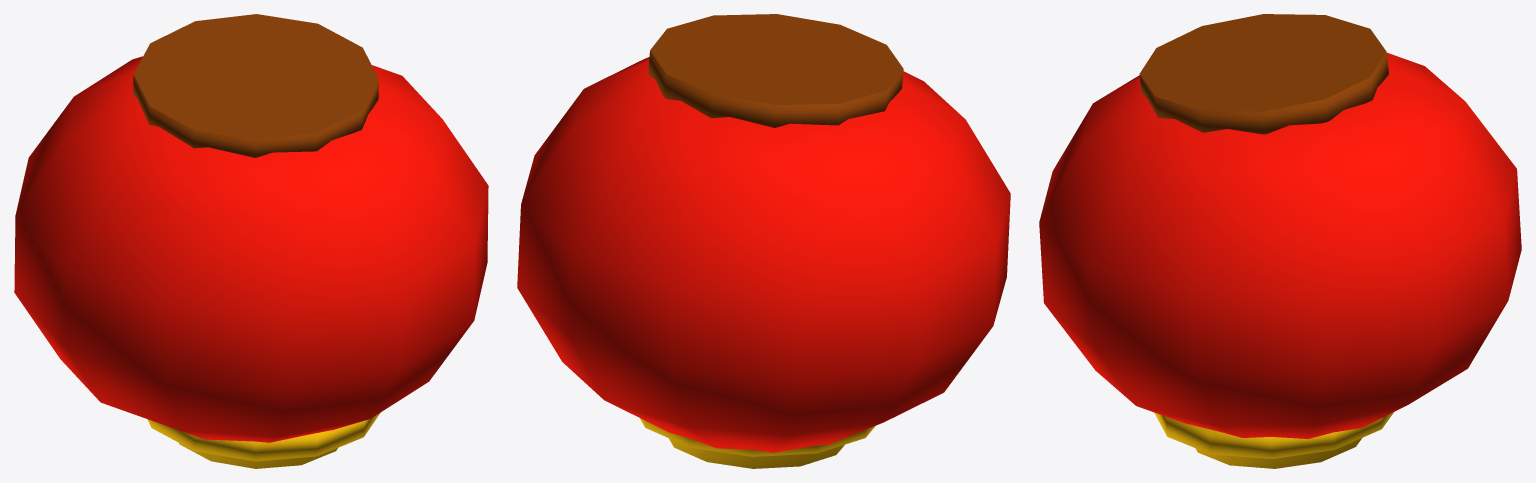
File: little-light.glb
3 views of the same model, side by side, from view 1: azimuth 30°, elevation 25°; view 2: azimuth 150°, elevation 25°; view 3: azimuth 270°, elevation 25° (orthographic). The views are drawn at different scales.
Parts seen in each view (by area): view 1: Cylinder.002; view 2: Cylinder.002; view 3: Cylinder.002.
Part boxes in pixels (<box>): Cylinder.002: <box>14,14,488,468</box>; Cylinder.002: <box>517,14,1010,468</box>; Cylinder.002: <box>1039,14,1521,468</box>.
Bounding box in the file's own units: 1.93 × 1.68 × 1.94.
